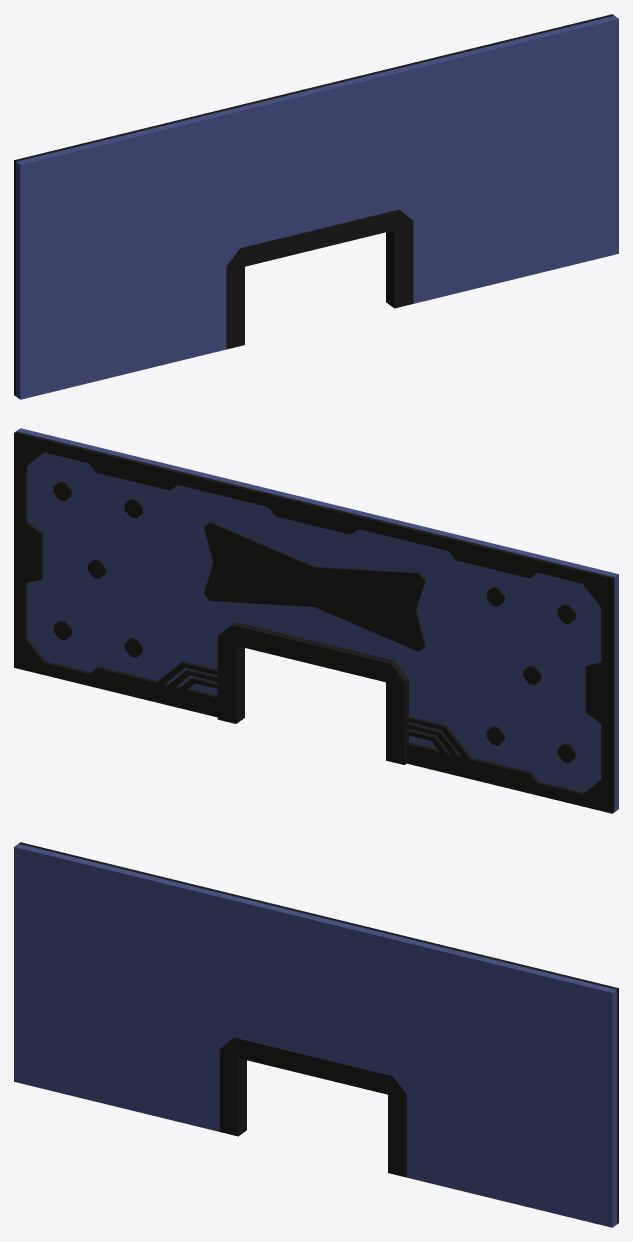
Rendered from Large_Ex_Wall_Doorway.glb.
3 views of the same model, one above another, from view 1: azimuth 30°, elevation 25°; view 2: azimuth 150°, elevation 25°; view 3: azimuth 330°, elevation 25° (orthographic).
Parts seen in each view (by area): view 1: Large_Wall_Doorway, Large_Frame, Large_Extruded_Wall_Doorway_Top; view 2: Large_Wall_Doorway, Large_Extruded_Wall_Doorway_Top, Large_Extruded_Wall_2.001, Large_Extruded_Wall_Doorway_Bot, Large_Frame, Large_Buds, Arms; view 3: Large_Wall_Doorway, Large_Frame, Large_Extruded_Wall_Doorway_Top.
Part boxes in pixels (x1=…): Large_Wall_Doorway: x1=16, y1=16, x2=618, y2=399; Large_Frame: x1=226, y1=209, x2=413, y2=349; Large_Extruded_Wall_Doorway_Top: x1=14, y1=14, x2=614, y2=278; Large_Wall_Doorway: x1=16, y1=428, x2=618, y2=811; Large_Extruded_Wall_Doorway_Top: x1=14, y1=431, x2=614, y2=696; Large_Extruded_Wall_2.001: x1=204, y1=522, x2=425, y2=651; Large_Extruded_Wall_Doorway_Bot: x1=14, y1=550, x2=614, y2=813; Large_Frame: x1=217, y1=622, x2=408, y2=764; Large_Buds: x1=53, y1=481, x2=575, y2=763; Arms: x1=157, y1=661, x2=471, y2=759; Large_Wall_Doorway: x1=14, y1=844, x2=616, y2=1227; Large_Frame: x1=219, y1=1037, x2=406, y2=1177; Large_Extruded_Wall_Doorway_Top: x1=18, y1=842, x2=618, y2=1106.
Size of the model in its own units: 16 by 6 by 0.4.
